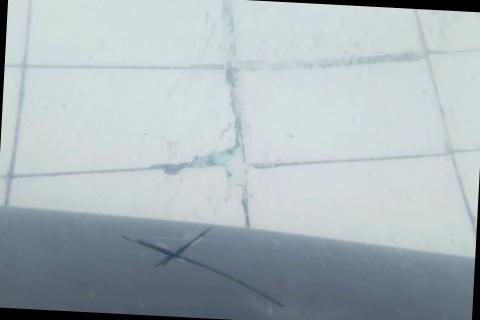keretakan: (115, 221, 291, 314)
